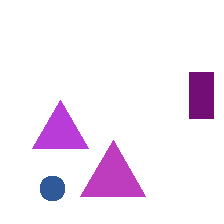circle: (40, 176, 64, 200)
rectangle: (189, 72, 213, 118)
triangle: (80, 140, 145, 196), (32, 100, 88, 148)
